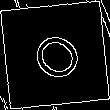O_SE: (21, 22, 89, 88)
